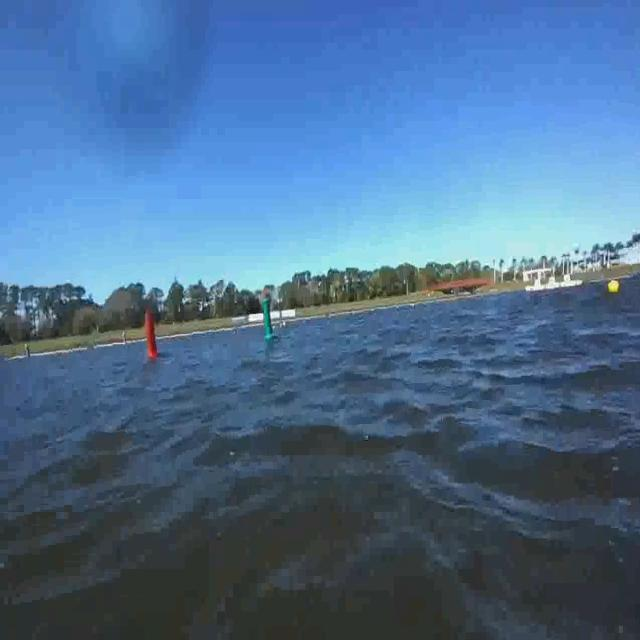green-column-buoy: (257, 288, 279, 338)
red-column-buoy: (144, 298, 161, 362)
